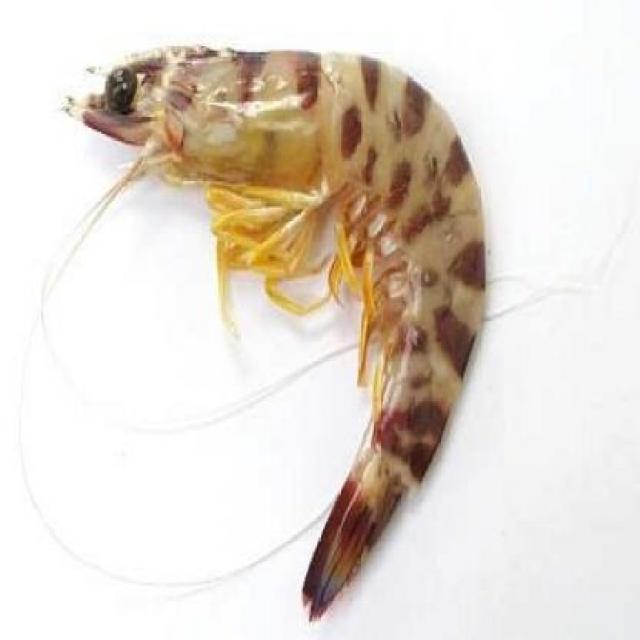shrimp: (46, 33, 502, 622)
